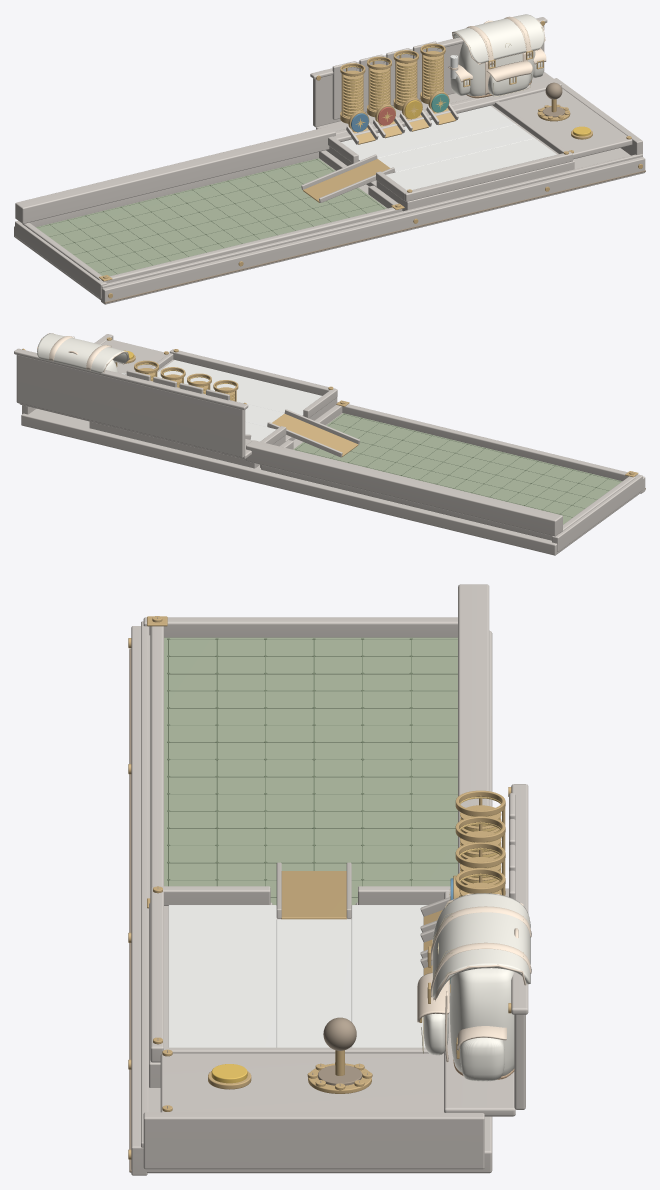
File: JourneyBoardAssembly.fbx
The picture shows the model from 3 angles, top to bottom: view 1: azimuth 30°, elevation 25°; view 2: azimuth 150°, elevation 25°; view 3: azimuth 270°, elevation 25°; orthographic projection. The views are drawn at different scales.
Parts seen in each view (by area): view 1: GridFloor, ContinuousFrontApron, LeftRearScreenLedge, GearDeck, TrayPaperSide, TrayPaperSide.001, TrayPaperCenter, FrontUpperMoulding, SoftCanvasFlap, GridLongRail, GridLongRail.001, SupplyShelf (+16 smaller); view 2: GridFloor, SupplyBackboard, UnifiedBase, LeftRearScreenLedge, GridLongRail, TrayPaperSide, SoftCanvasFlap, TrayLongRail, GridLongRail.001, LeftSideFascia, BackboardTopMoulding, TrayBaseSide.001 (+9 smaller); view 3: GridFloor, RightSideFascia, TrayPaperSide, GearDeck, TrayPaperSide.001, TrayPaperCenter, LeftRearScreenLedge, GridLeftRail, SoftCanvasFlap, ContinuousFrontApron, BackpackCanvasBody, FrontUpperMoulding (+16 smaller).
Boxes of the visible parts, x1=… form: GridFloor: x1=36, y1=158, x2=386, y2=276; ContinuousFrontApron: x1=101, y1=157, x2=645, y2=304; LeftRearScreenLedge: x1=15, y1=126, x2=335, y2=223; GearDeck: x1=500, y1=88, x2=632, y2=159; TrayPaperSide: x1=386, y1=138, x2=556, y2=190; TrayPaperSide.001: x1=341, y1=105, x2=515, y2=160; TrayPaperCenter: x1=377, y1=124, x2=534, y2=172; FrontUpperMoulding: x1=101, y1=154, x2=642, y2=288; SoftCanvasFlap: x1=452, y1=14, x2=544, y2=63; GridLongRail: x1=102, y1=207, x2=401, y2=283; GridLongRail.001: x1=29, y1=152, x2=318, y2=226; SupplyShelf: x1=316, y1=72, x2=561, y2=141; GridFloor: x1=293, y1=413, x2=622, y2=524; SupplyBackboard: x1=16, y1=355, x2=245, y2=457; UnifiedBase: x1=21, y1=408, x2=644, y2=555; LeftRearScreenLedge: x1=246, y1=440, x2=562, y2=536; GridLongRail: x1=342, y1=404, x2=636, y2=480; TrayPaperSide: x1=157, y1=360, x2=321, y2=415; SoftCanvasFlap: x1=37, y1=333, x2=128, y2=373; TrayLongRail: x1=169, y1=349, x2=337, y2=397; GridLongRail.001: x1=261, y1=465, x2=551, y2=540; LeftSideFascia: x1=552, y1=474, x2=642, y2=551; BackboardTopMoulding: x1=14, y1=348, x2=248, y2=410; TrayBaseSide.001: x1=89, y1=421, x2=285, y2=468; GridFloor: x1=164, y1=637, x2=457, y2=905; RightSideFascia: x1=143, y1=1112, x2=484, y2=1169; TrayPaperSide: x1=168, y1=905, x2=276, y2=1047; GearDeck: x1=160, y1=1053, x2=443, y2=1112; TrayPaperSide.001: x1=351, y1=905, x2=427, y2=1047; TrayPaperCenter: x1=276, y1=919, x2=351, y2=1047; LeftRearScreenLedge: x1=458, y1=584, x2=489, y2=873; GridLeftRail: x1=164, y1=617, x2=457, y2=637; SoftCanvasFlap: x1=432, y1=893, x2=530, y2=997; ContinuousFrontApron: x1=131, y1=626, x2=147, y2=1175; BackpackCanvasBody: x1=450, y1=968, x2=514, y2=1076; FrontUpperMoulding: x1=141, y1=621, x2=148, y2=1147.
Size of the model in its own units: 1816 by 312 by 591.
